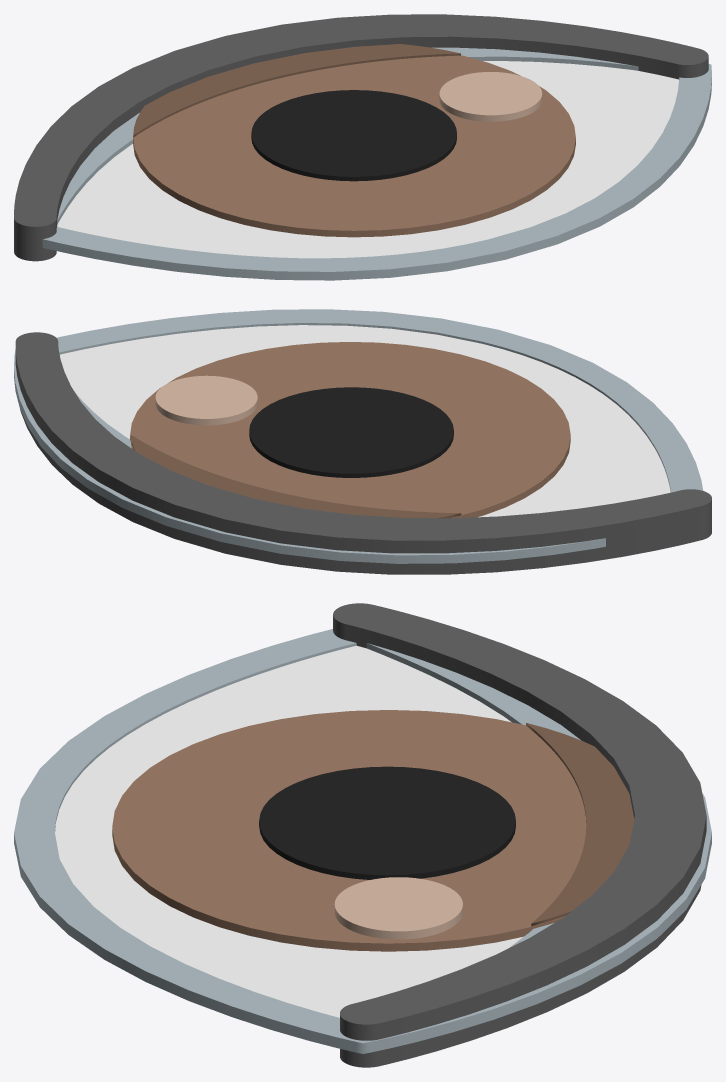
Rendered from emoji_u1f441.glb.
3 views of the same model, one above another, from view 1: azimuth 30°, elevation 25°; view 2: azimuth 150°, elevation 25°; view 3: azimuth 270°, elevation 25° (orthographic). The views are drawn at different scales.
Parts seen in each view (by area): view 1: emoji_u1f441; view 2: emoji_u1f441; view 3: emoji_u1f441.
Boxes of the visible parts, x1,y1,x2,y2 form: emoji_u1f441: (14,14,711,280); emoji_u1f441: (14,309,711,574); emoji_u1f441: (14,603,711,1067).
Bounding box in the file's own units: 0.0338 × 0.0016 × 0.0235.
